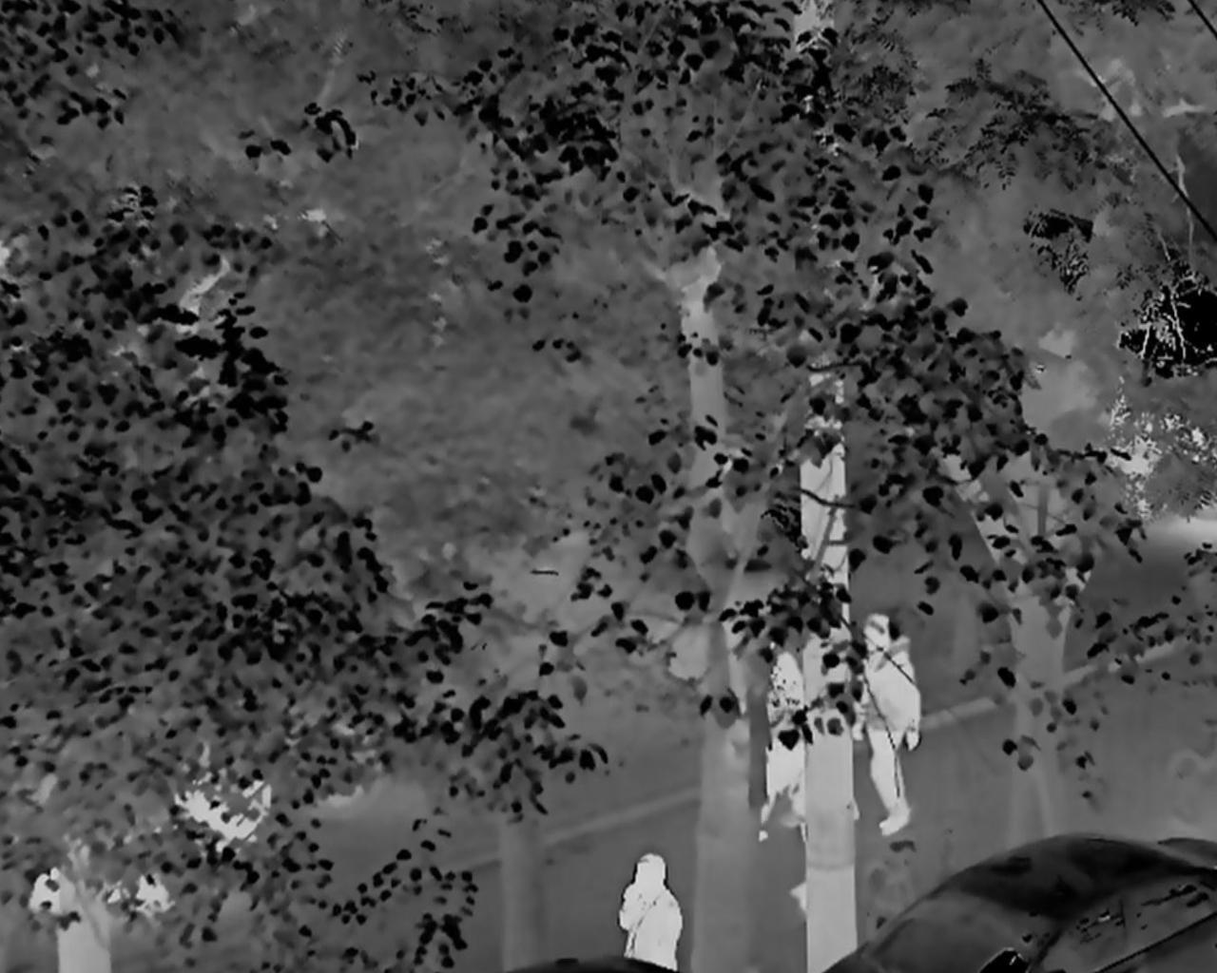person: (852, 615, 919, 836), (757, 637, 816, 837), (617, 852, 686, 973)
